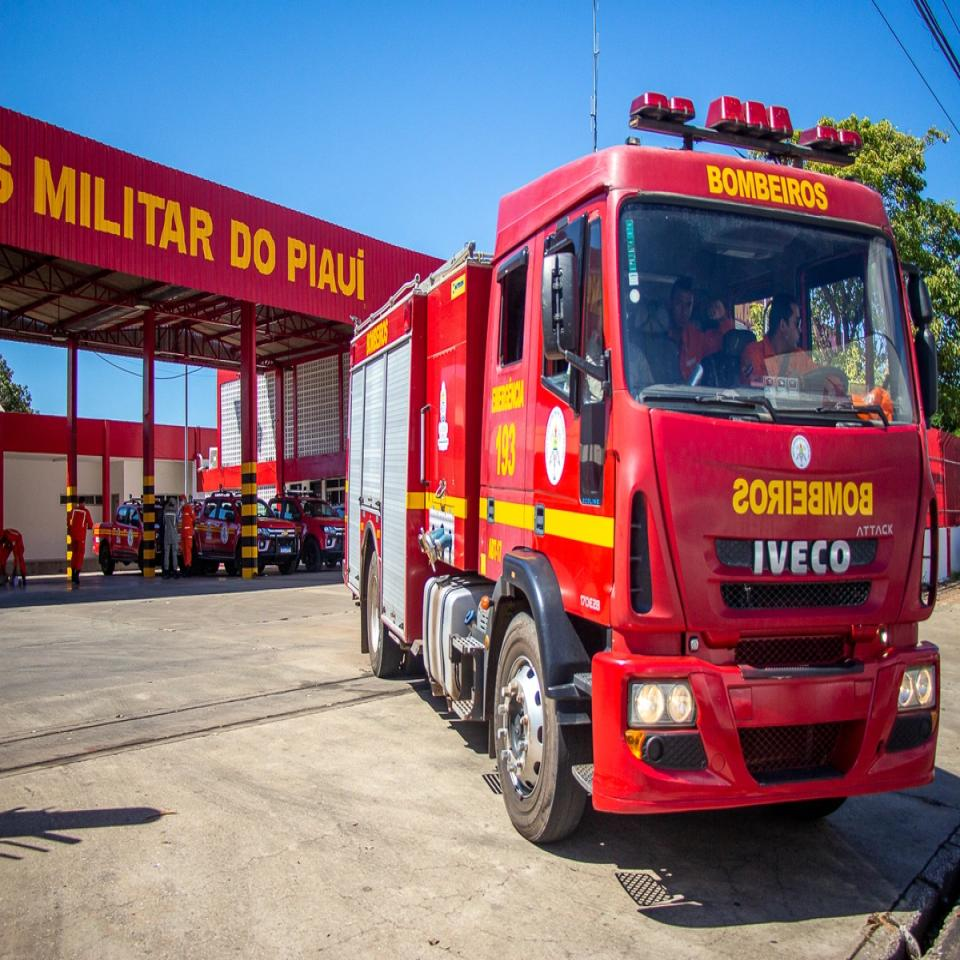viatura: (346, 88, 942, 859)
